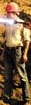gloves: (0, 72, 5, 82)
hard-hat: (4, 0, 21, 11)
